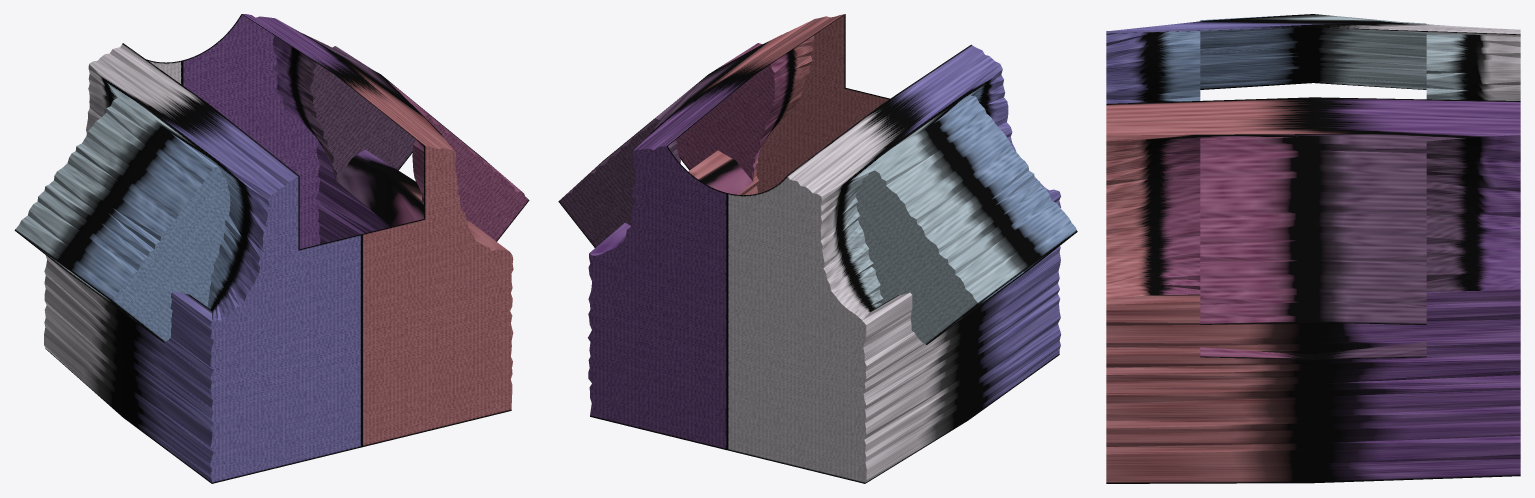
The model's file is valid_garment_upper_boxmesh.obj.
The picture shows the model from 3 angles, left to right: view 1: azimuth 30°, elevation 25°; view 2: azimuth 150°, elevation 25°; view 3: azimuth 270°, elevation 25°; orthographic projection. The views are drawn at different scales.
Size of the model in its own units: 75.19 by 49.37 by 55.
1 material, 1 textured.
